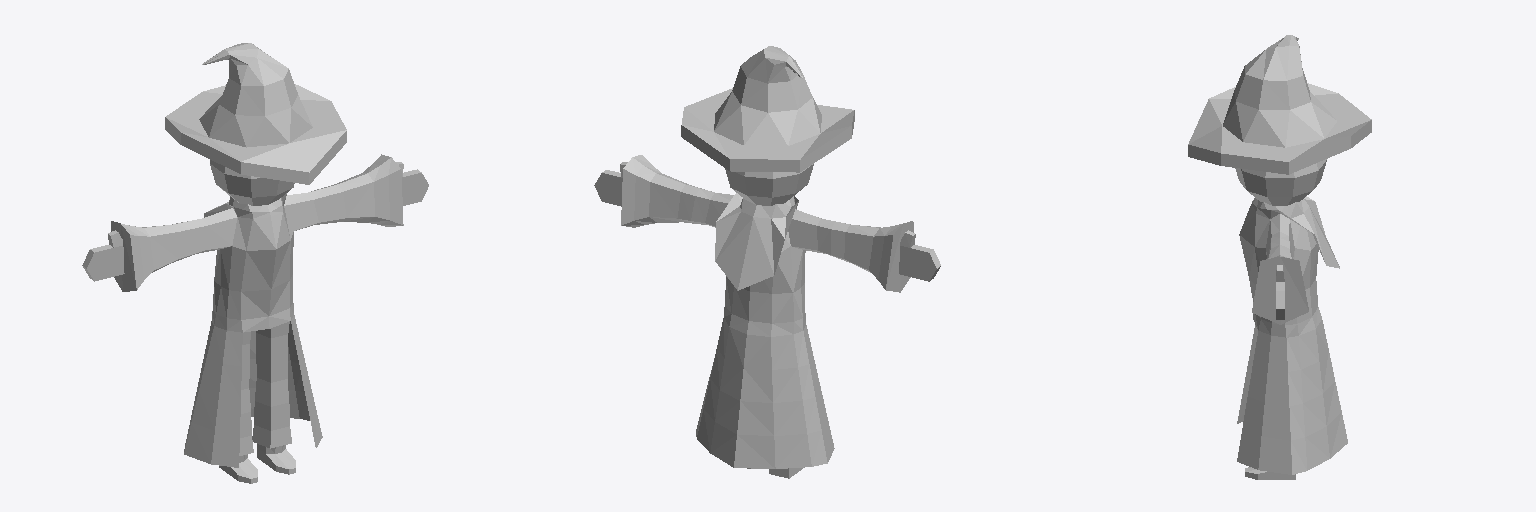
The model's file is Wizard.obj.
3 views of the same model, side by side, from view 1: azimuth 30°, elevation 25°; view 2: azimuth 150°, elevation 25°; view 3: azimuth 270°, elevation 25° (orthographic).
Parts seen in each view (by area): view 1: Wizard_Cylinder.006; view 2: Wizard_Cylinder.006; view 3: Wizard_Cylinder.006.
Part boxes in pixels (x1,y1,x2,y2): Wizard_Cylinder.006: (82,43,428,483); Wizard_Cylinder.006: (594,46,940,478); Wizard_Cylinder.006: (1188,35,1371,479).
Bounding box in the file's own units: 12.81 × 14.99 × 5.95.